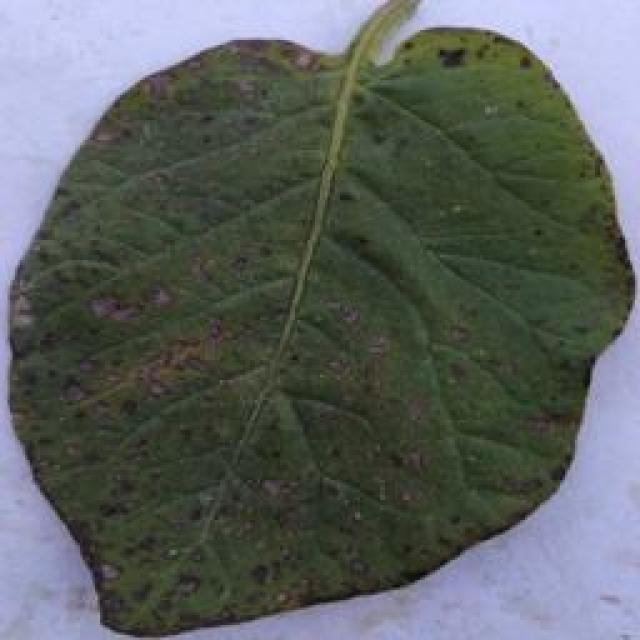Potato_Early_Blight: (6, 9, 638, 633)
